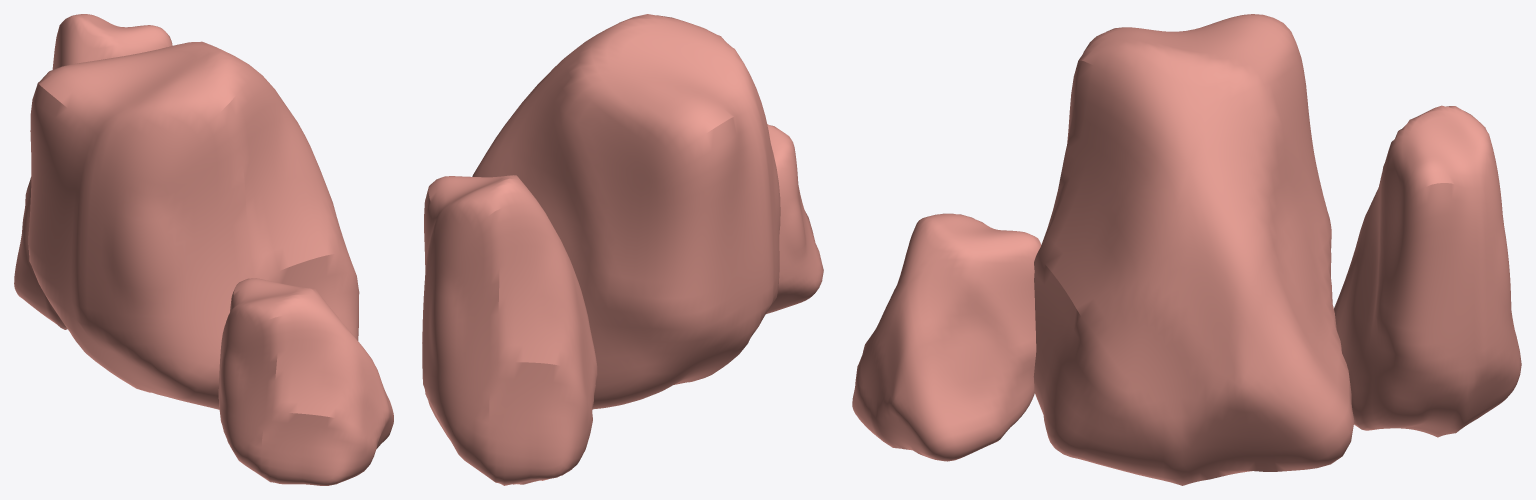
File: rock_stage_2.fbx
3 renders of one model, left to right at view 1: azimuth 30°, elevation 25°; view 2: azimuth 150°, elevation 25°; view 3: azimuth 270°, elevation 25°, orthographic. The views are drawn at different scales.
Visible parts, largest first — view 1: rock.001, rock.002, rock.003; view 2: rock.001, rock.003, rock.002; view 3: rock.001, rock.003, rock.002.
Boxes of the visible parts, left/top/right/bottom form: rock.001: left=28, top=41, right=359, bottom=409; rock.002: left=218, top=278, right=393, bottom=485; rock.003: left=14, top=14, right=172, bottom=329; rock.001: left=472, top=14, right=780, bottom=409; rock.003: left=422, top=175, right=597, bottom=485; rock.002: left=766, top=124, right=823, bottom=313; rock.001: left=1033, top=14, right=1354, bottom=485; rock.003: left=1334, top=105, right=1521, bottom=437; rock.002: left=852, top=213, right=1041, bottom=461.
Bounding box in the file's own units: 92.81 × 113 × 172.
